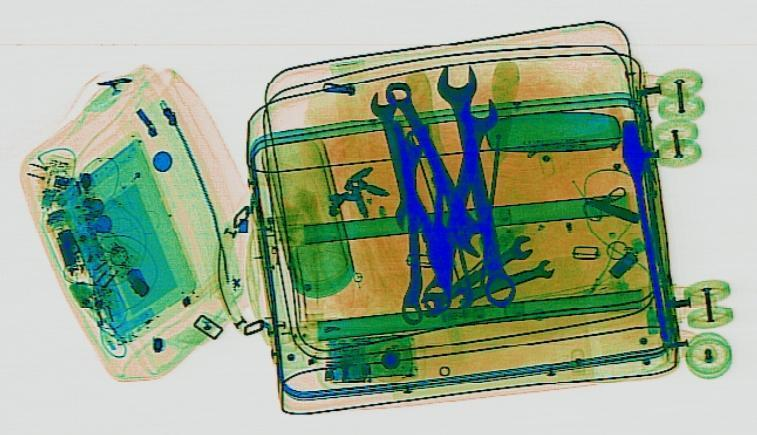Wrench: (369, 79, 505, 257), (431, 63, 525, 307), (424, 97, 499, 254), (411, 231, 549, 312), (365, 89, 426, 229), (441, 257, 564, 307), (397, 129, 423, 323)
